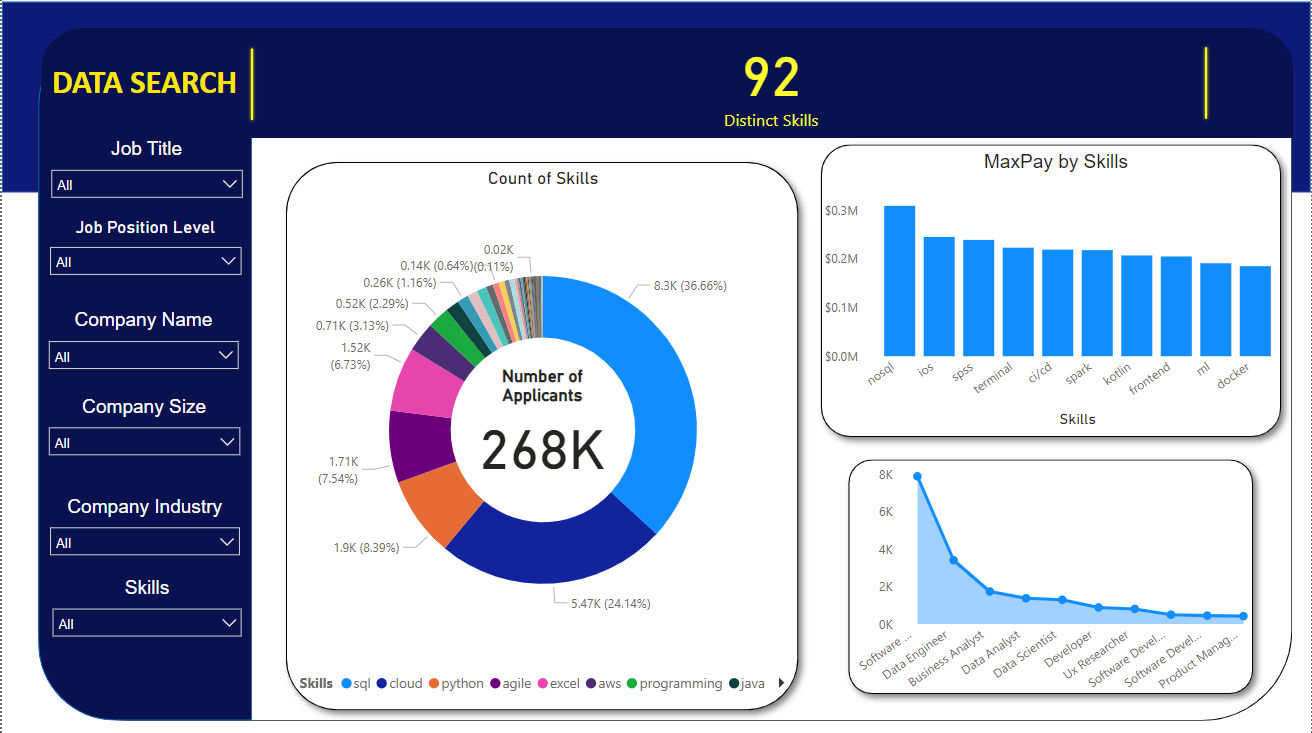

The dashboard page shown, as its layout file describes it:
{"tool":"powerbi","page":{"name":"Skills Overview","canvas":[1280,720],"ordinal":2},"visuals":[{"type":"shape","box":[0,4.2,1280.3,186.7],"z":0},{"type":"shape","box":[35.7,28.8,1226.8,677.9],"z":1000},{"type":"shape","box":[35.5,29.3,209.1,677.4],"z":2000},{"type":"shape","box":[37.9,29.3,1225.3,107.6],"z":3000},{"type":"textbox","box":[35.1,57.6,207.8,53.3],"z":4000},{"type":"shape","box":[159,46.5,171.2,75.8],"z":5000},{"type":"slicer","title":"Company Name","fields":{"Values":["job_postings.Company Name"]},"box":[35.7,304.6,205.8,74.1],"z":6000},{"type":"slicer","title":"Job Title","fields":{"Values":["job_postings.Job Title"]},"box":[38.4,137.2,207.2,76.8],"z":7000},{"type":"slicer","title":"Job Position Level","fields":{"Values":["job_postings.Job Position Level"]},"box":[37,214.1,207.2,74.1],"z":8000},{"type":"slicer","title":"Company Size","fields":{"Values":["job_postings.Company Size"]},"box":[35.7,388.3,207.2,74.1],"z":9000},{"type":"slicer","title":"Company Industry","fields":{"Values":["job_postings.Company Industry"]},"box":[37,487.1,205.8,75.5],"z":10000},{"type":"shape","box":[266.7,148.8,523.6,558.7],"z":11000},{"type":"shape","box":[1076.4,44.9,203.6,75.8],"z":12000},{"type":"card","title":"Distinct Count of Skills","fields":{"Values":["Count(job_postings.Sheet1.Job Skills)"]},"box":[673.8,29.3,157.7,102.7],"z":13000},{"type":"donutChart","title":"Count of Skills","fields":{"Y":["CountNonNull(job_postings.Skills)"],"Category":["job_postings.Skills"]},"box":[286.1,166.9,486.6,523.1],"z":14000},{"type":"card","title":" Number of Applicants","fields":{"Values":["Sum(job_postings.Number of Applicants)"]},"box":[442.7,359.6,172,112.8],"z":15000},{"type":"shape","box":[789.5,131.8,472.6,308.5],"z":16000},{"type":"shape","box":[816.9,440.2,418.2,251.9],"z":17000},{"type":"clusteredColumnChart","title":"MaxPay by Skills","fields":{"Category":["job_postings.Skills"],"Y":["job_postings.Max Salary"]},"box":[799.3,148.6,462.8,276.2],"z":18000},{"type":"areaChart","fields":{"Category":["job_postings.Job Title"],"Y":["job_postings.skill count"]},"box":[831.5,450,402.3,239.7],"z":19000},{"type":"slicer","title":"Skills","fields":{"Values":["job_postings.Skills"]},"box":[39.1,566.2,205.4,68.5],"z":20000}]}

Visuals, with their boxes in screenshot pixels (x1, y1, x2, y2), scaled from the page's 1280x720 canvas onto the 1312x733 screenshot:
shape: select_region(0, 4, 1311, 194)
shape: select_region(37, 29, 1294, 719)
shape: select_region(36, 30, 251, 719)
shape: select_region(39, 30, 1295, 139)
textbox: select_region(36, 59, 249, 113)
shape: select_region(163, 47, 338, 125)
"Company Name" slicer: select_region(37, 310, 248, 386)
"Job Title" slicer: select_region(39, 140, 252, 218)
"Job Position Level" slicer: select_region(38, 218, 250, 293)
"Company Size" slicer: select_region(37, 395, 249, 471)
"Company Industry" slicer: select_region(38, 496, 249, 573)
shape: select_region(273, 151, 810, 720)
shape: select_region(1103, 46, 1311, 123)
"Distinct Count of Skills" card: select_region(691, 30, 852, 134)
"Count of Skills" donutChart: select_region(293, 170, 792, 702)
" Number of Applicants" card: select_region(454, 366, 630, 481)
shape: select_region(809, 134, 1294, 448)
shape: select_region(837, 448, 1266, 705)
"MaxPay by Skills" clusteredColumnChart: select_region(819, 151, 1294, 432)
areaChart - job_postings.Job Title x job_postings.skill count: select_region(852, 458, 1265, 702)
"Skills" slicer: select_region(40, 576, 251, 646)
